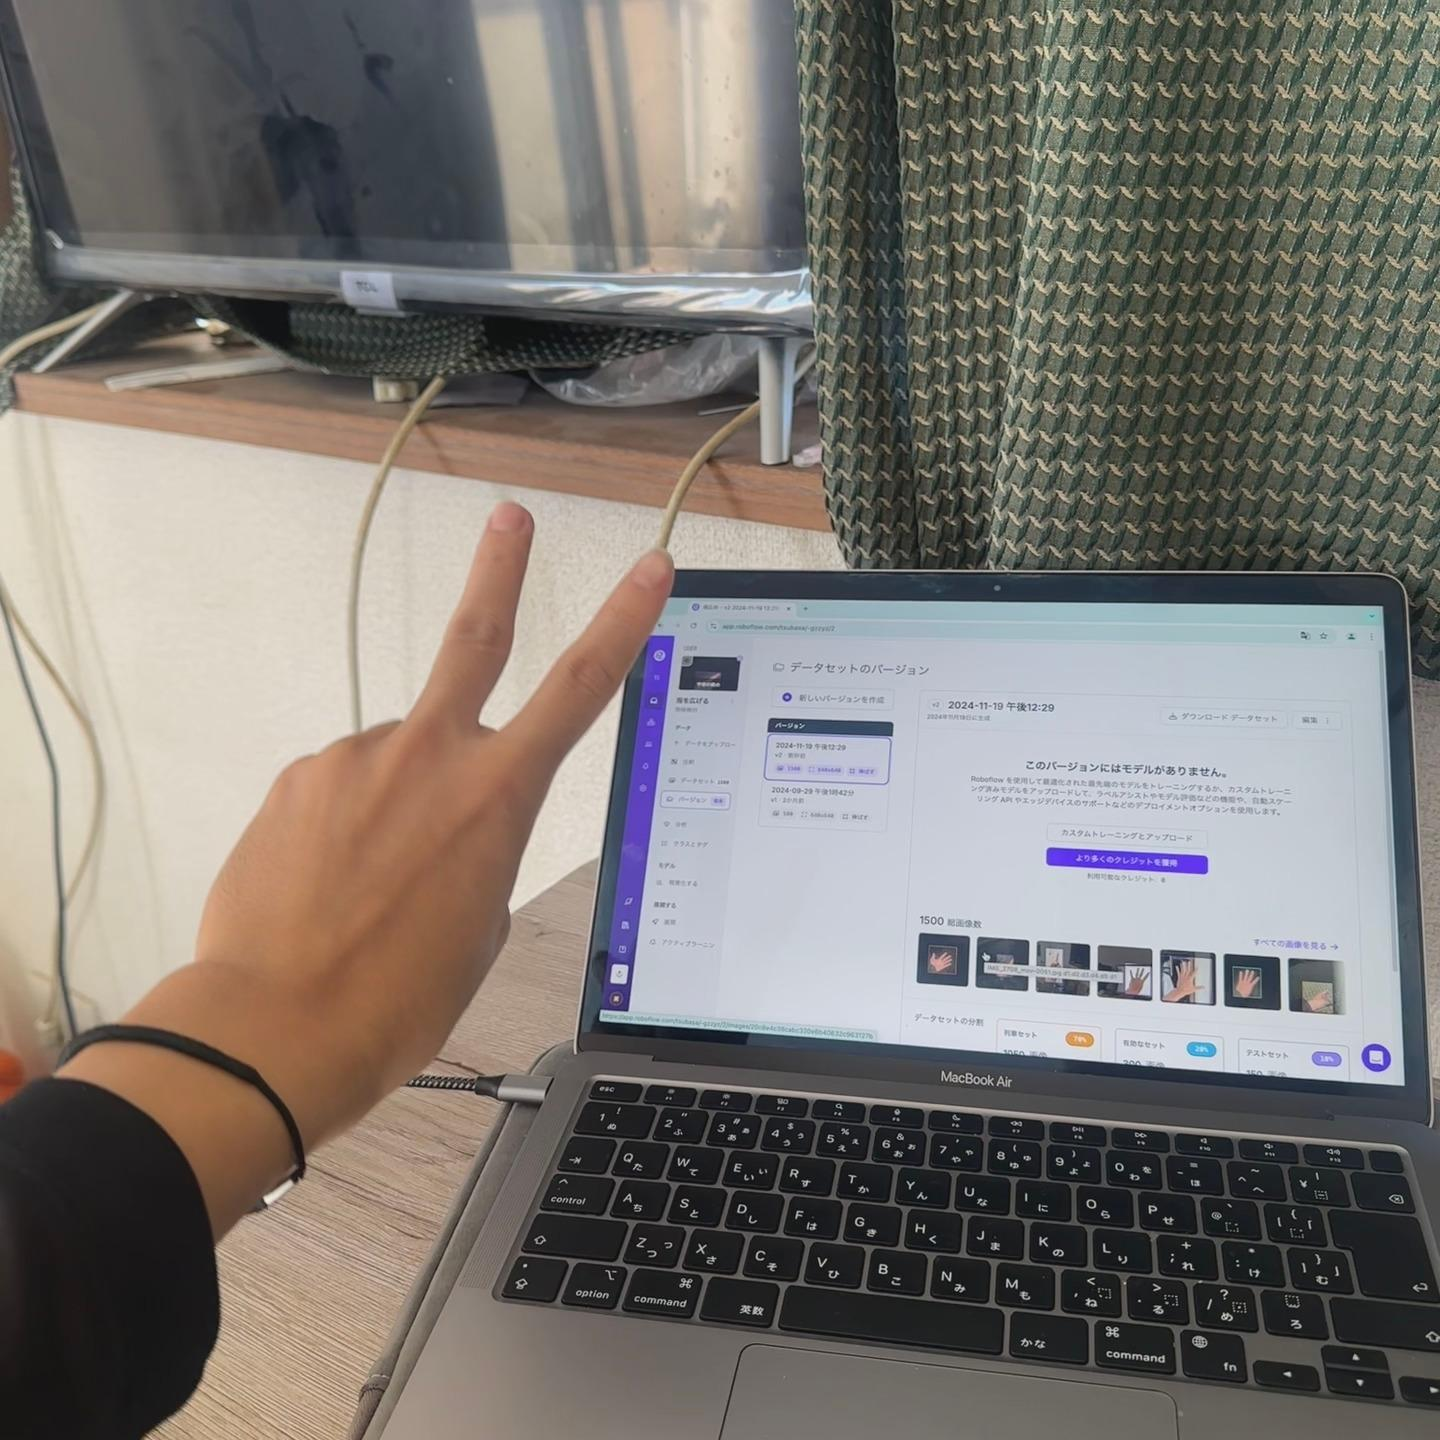without_gloves: (0, 298, 876, 1155)
